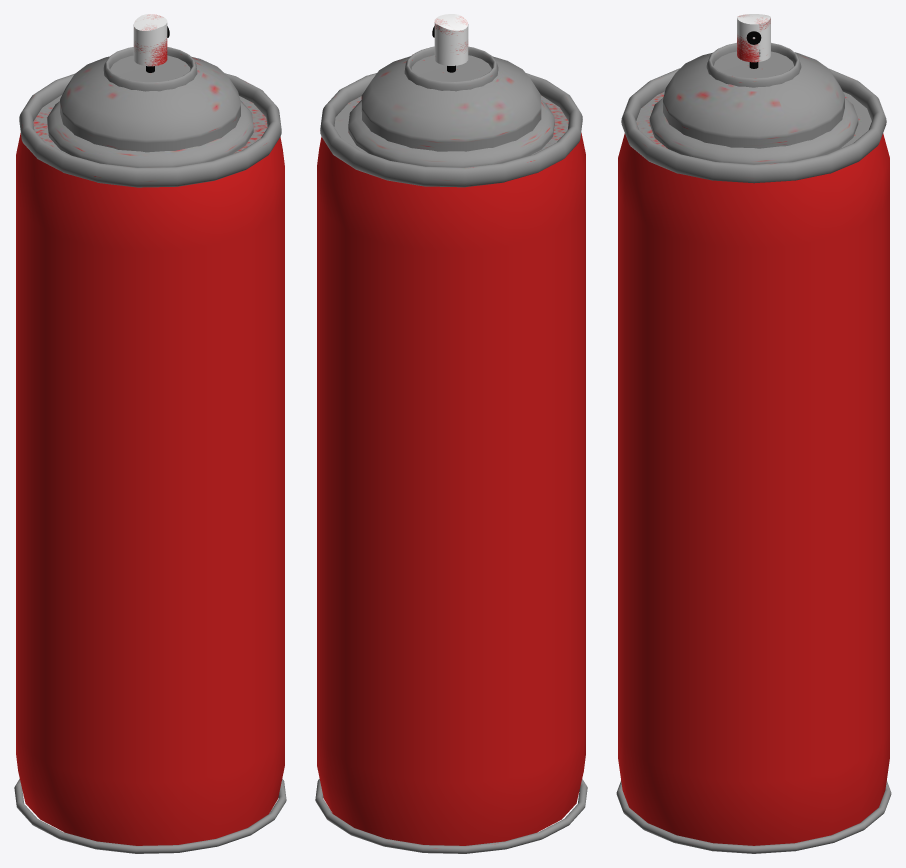
File: vo_spray_rojo.glb
3 renders of one model, left to right at view 1: azimuth 30°, elevation 25°; view 2: azimuth 150°, elevation 25°; view 3: azimuth 270°, elevation 25°, orthographic.
Visible parts, largest first — view 1: pTorus4; view 2: pTorus4; view 3: pTorus4.
Boxes of the visible parts, x1,y1,x2,y2 form: pTorus4: (14, 14, 286, 853); pTorus4: (315, 14, 587, 853); pTorus4: (616, 14, 891, 853).
Size of the model in its own units: 2.02 by 6.34 by 2.02.
Materials: 1 (1 with a texture image).
